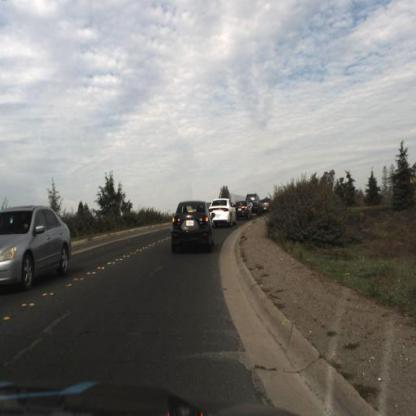car: (2, 205, 75, 295), (166, 192, 217, 267), (209, 193, 237, 233), (210, 198, 237, 230), (233, 194, 254, 226), (246, 189, 264, 218), (248, 193, 265, 219), (236, 195, 253, 218)
